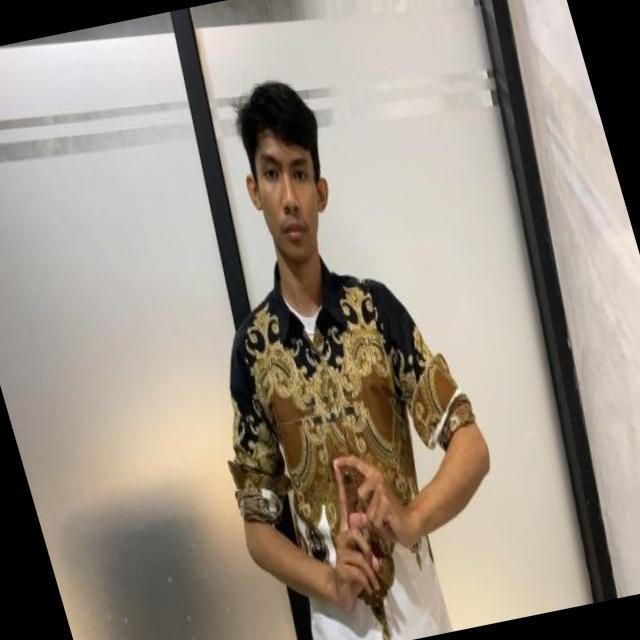D: (324, 452, 398, 574)
